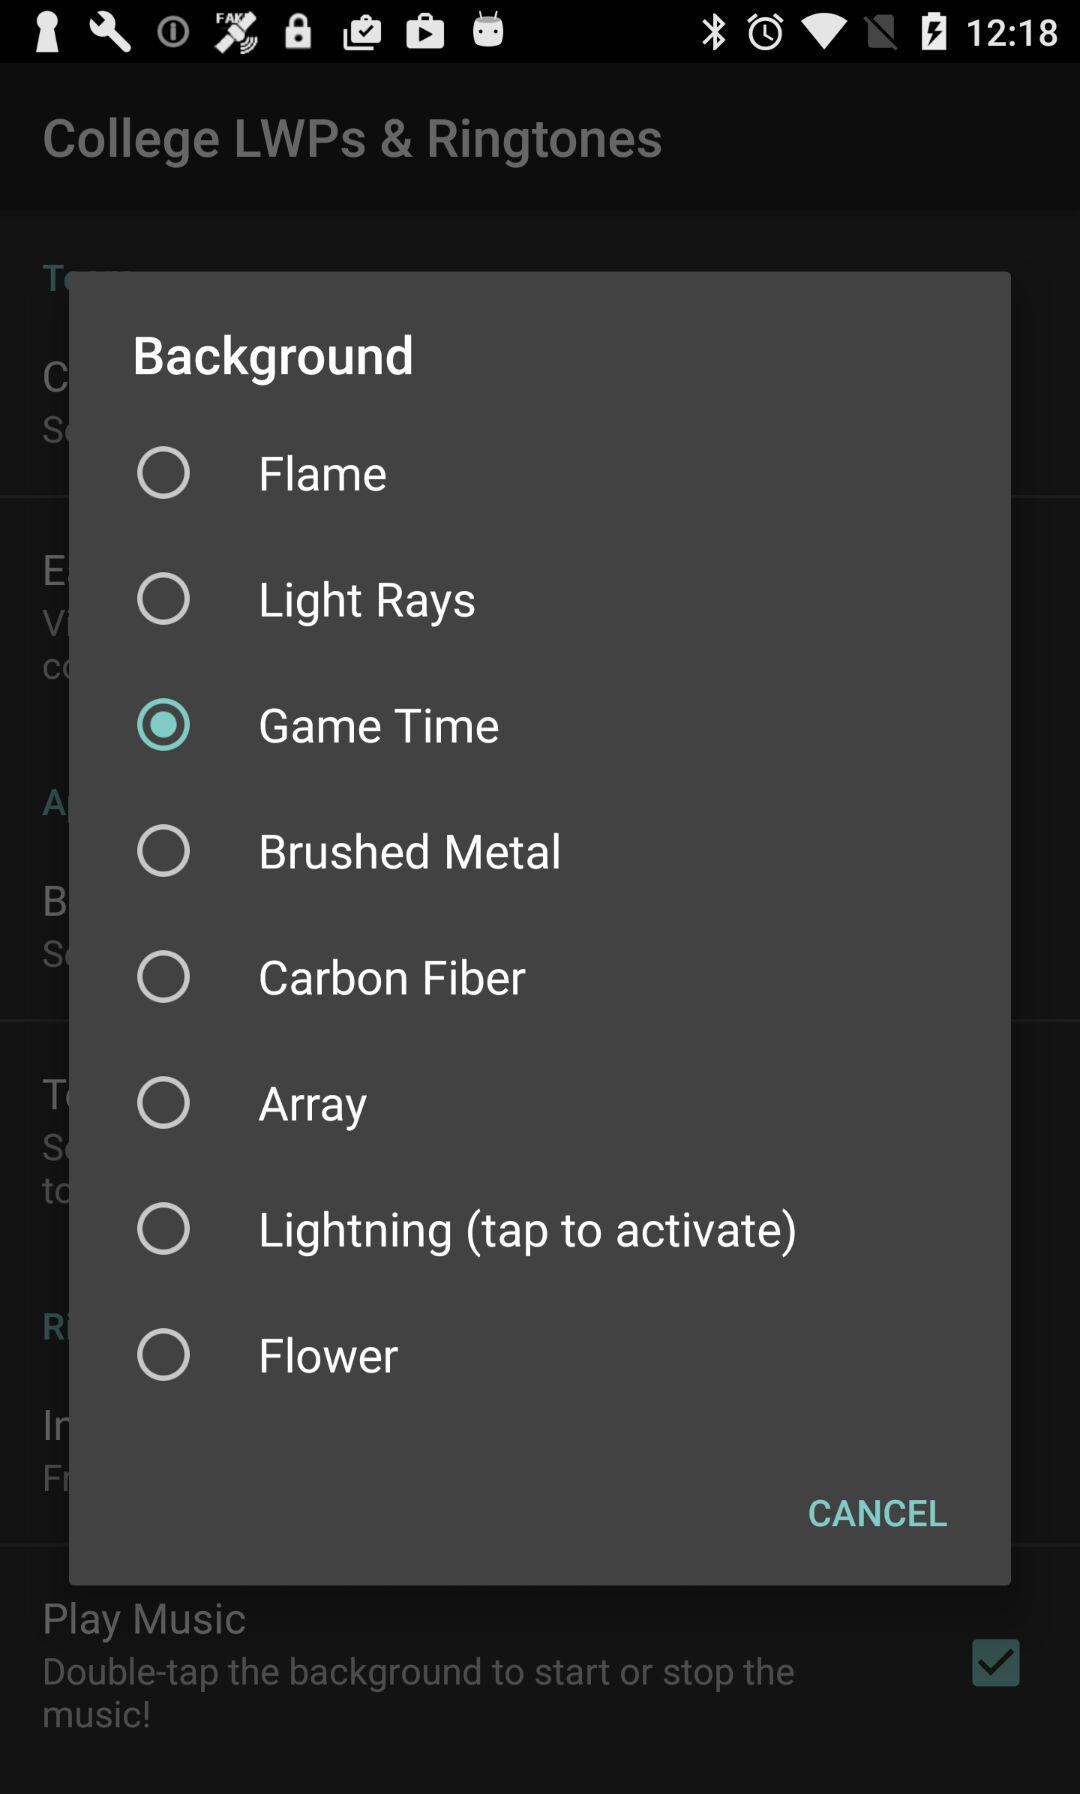CheckedTextView: (137, 1201, 796, 1258), (137, 824, 560, 878), (137, 950, 527, 1005), (137, 698, 498, 752), (137, 572, 475, 627), (138, 1328, 398, 1381), (137, 446, 387, 500), (137, 1075, 368, 1132)
Icon: (971, 1638, 1020, 1688)
Modal: (70, 274, 1012, 1586)
Text: (44, 1656, 796, 1729), (44, 118, 664, 170), (263, 1208, 796, 1258), (136, 334, 413, 386), (263, 832, 560, 870), (261, 959, 527, 996), (263, 582, 475, 627), (45, 1601, 246, 1644), (261, 709, 498, 743), (259, 1087, 368, 1132), (263, 1337, 398, 1372), (263, 455, 387, 492), (808, 1499, 947, 1527)
UpperTaskBar: (1, 1, 1080, 64)
